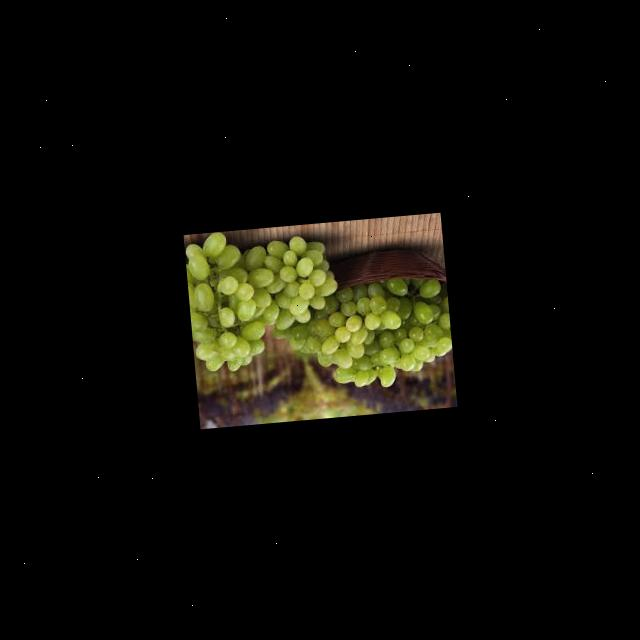grape: (184, 222, 345, 374), (274, 272, 455, 396)
